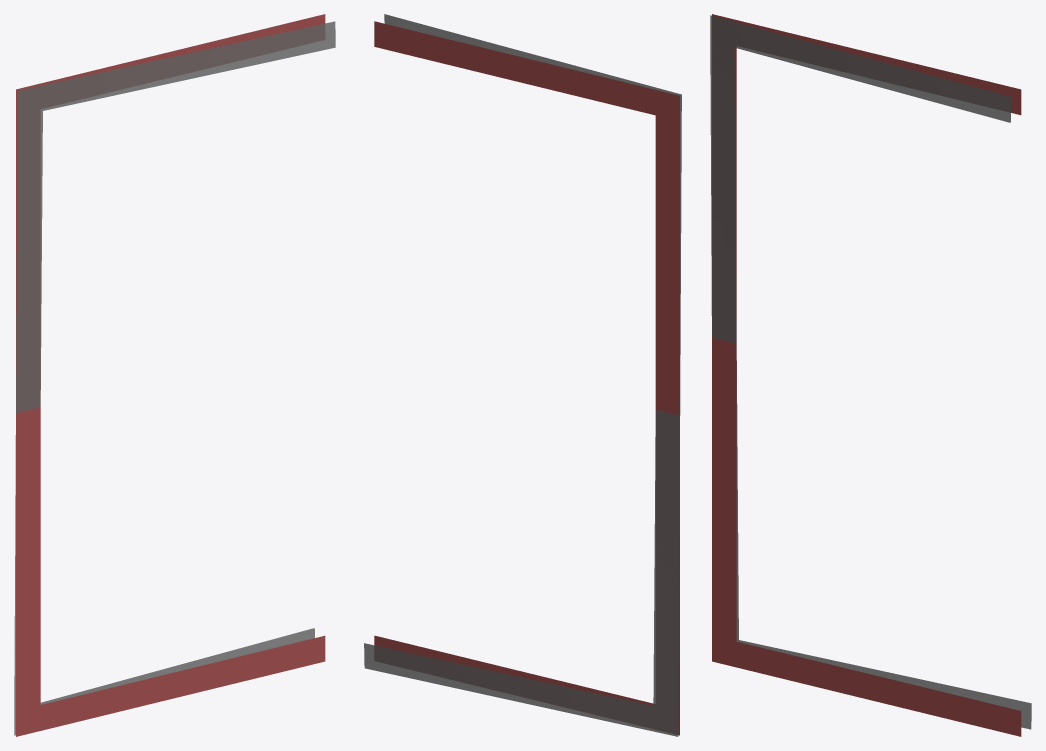
The model's file is warping-cold-formed-u-100-50-4-0-0-195.glb.
3 views of the same model, side by side, from view 1: azimuth 30°, elevation 25°; view 2: azimuth 150°, elevation 25°; view 3: azimuth 330°, elevation 25° (orthographic).
Visible parts, largest first — view 1: undeformed cross-section, cross-section with warping; view 2: undeformed cross-section, cross-section with warping; view 3: undeformed cross-section, cross-section with warping.
Boxes of the visible parts, x1,y1,x2,y2 form: undeformed cross-section: [16, 14, 325, 736]; cross-section with warping: [14, 21, 335, 735]; undeformed cross-section: [374, 21, 679, 735]; cross-section with warping: [364, 14, 681, 736]; undeformed cross-section: [712, 14, 1021, 736]; cross-section with warping: [710, 15, 1031, 729].
Bounding box in the file's own units: 0.05 × 0.1 × 0.00589.
